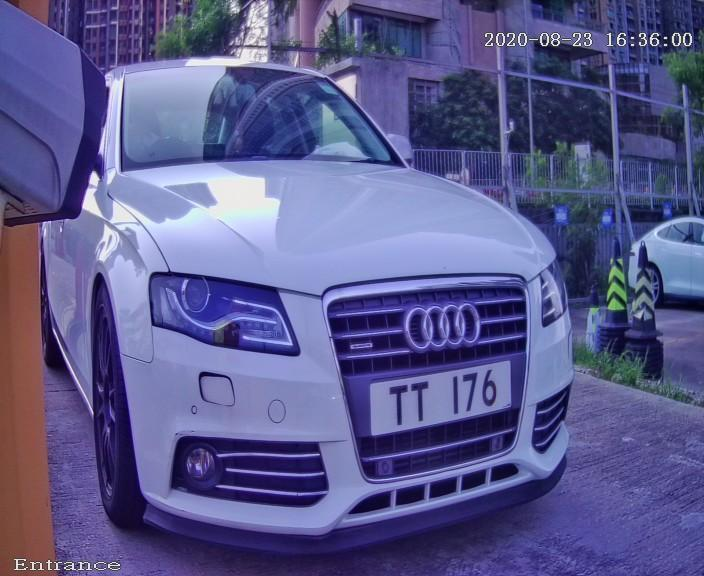Car: (16, 3, 635, 574)
License Plate: (344, 347, 528, 450)
